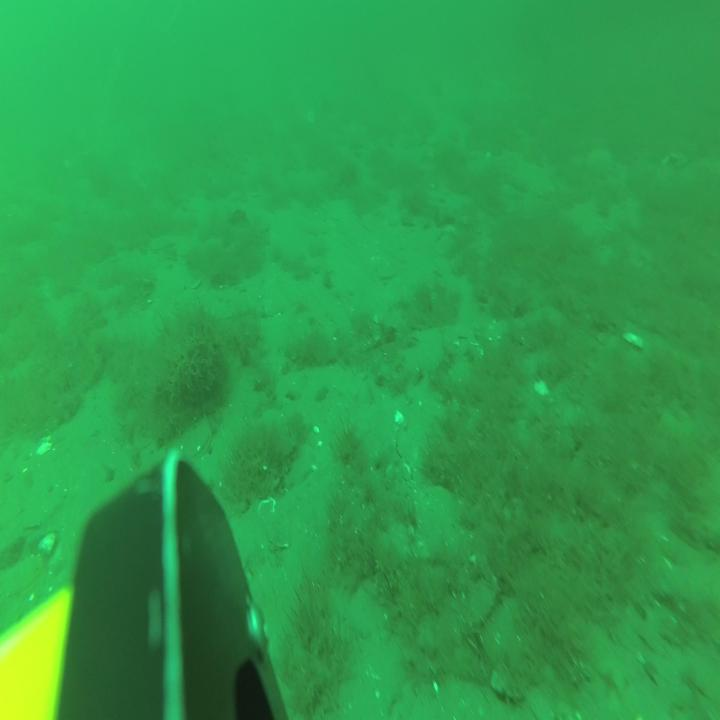scallop: (8, 558, 44, 600), (182, 420, 210, 459), (258, 495, 275, 526)
